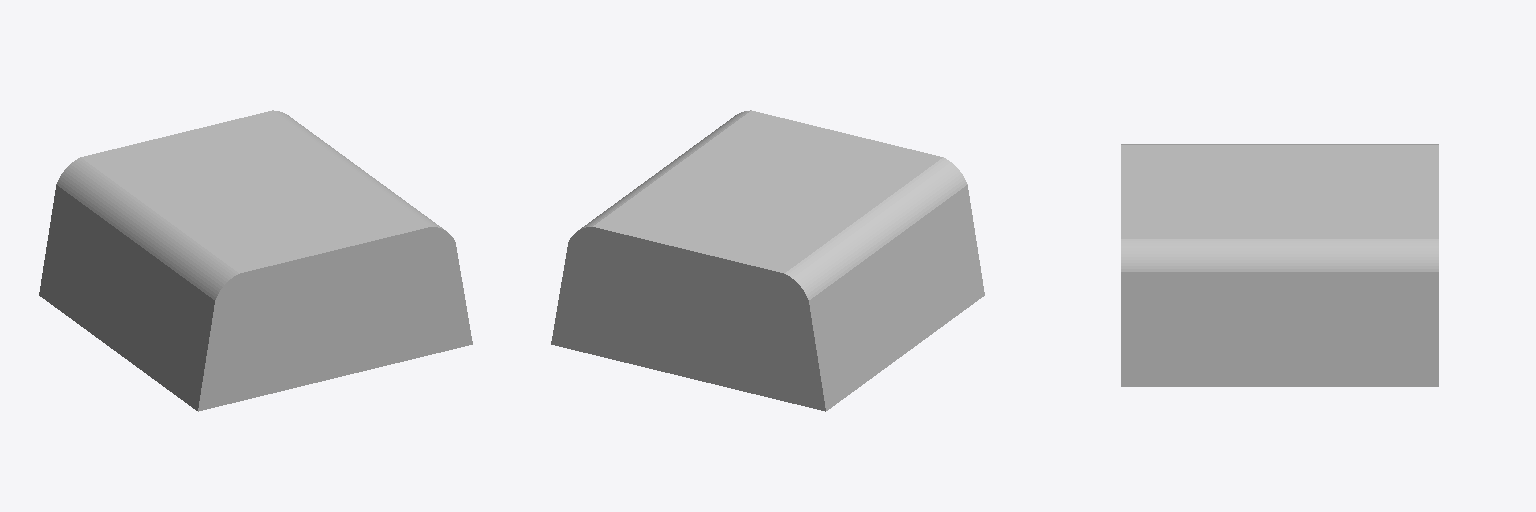
File: original-94.obj
3 renders of one model, left to right at view 1: azimuth 30°, elevation 25°; view 2: azimuth 150°, elevation 25°; view 3: azimuth 270°, elevation 25°, orthographic.
Visible parts, largest first — view 1: Group_1_67/Group_1/mesh1/mesh1-geometry#mesh1-geometry; view 2: Group_1_67/Group_1/mesh1/mesh1-geometry#mesh1-geometry; view 3: Group_1_67/Group_1/mesh1/mesh1-geometry#mesh1-geometry.
Boxes of the visible parts, <box> form: Group_1_67/Group_1/mesh1/mesh1-geometry#mesh1-geometry: <box>39,110,472,411</box>; Group_1_67/Group_1/mesh1/mesh1-geometry#mesh1-geometry: <box>551,110,984,411</box>; Group_1_67/Group_1/mesh1/mesh1-geometry#mesh1-geometry: <box>1121,144,1438,386</box>.
Size of the model in its own units: 0.0524 by 0.0233 by 0.0524.